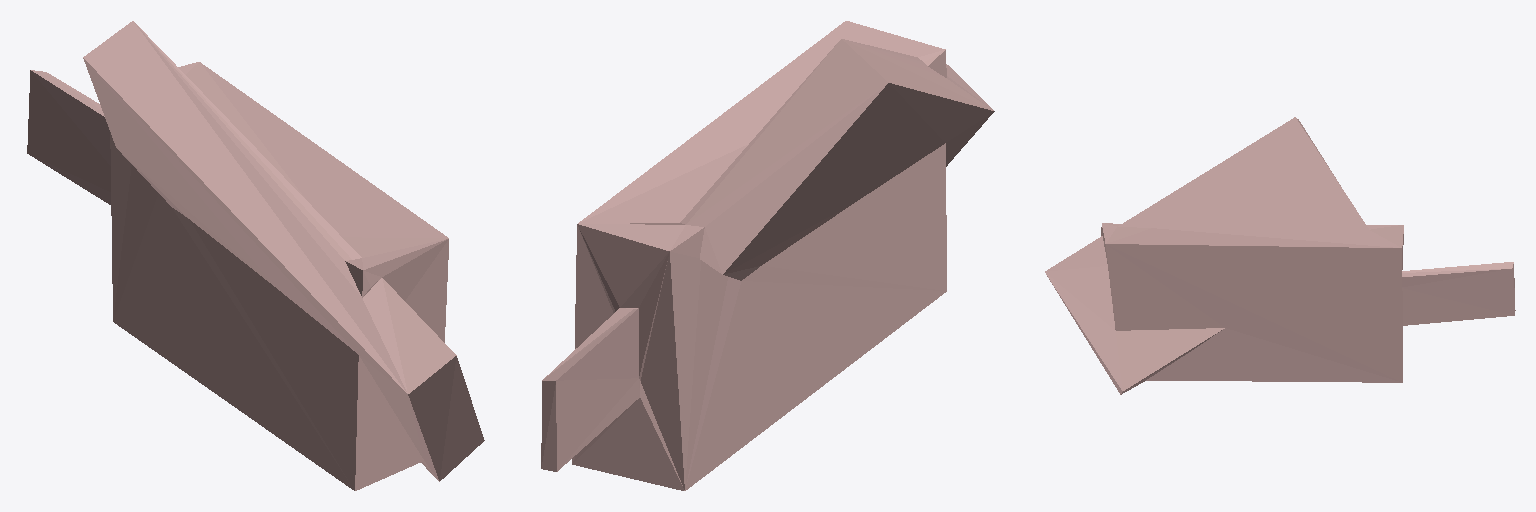
URDF robot description (blob801):

<robot name="blob801">
  <link name="random_obj_801">
    <contact>
      <lateral_friction value="1.0"/>
      <rolling_friction value="0.0"/>
      <inertia_scaling value="3.0"/>
      <contact_cfm value="0.0"/>
      <contact_erp value="1.0"/>
    </contact>
    <inertial>
      <origin rpy="0 0 0" xyz="0 0 0"/>
      <mass value="0.1261"/>
      <inertia ixx="1" ixy="0" ixz="0" iyy="1" iyz="0" izz="0"/>
    </inertial>
    <visual>
      <origin rpy="0 0 0" xyz="0 0 0"/>
      <geometry>
        <mesh filename="801.obj" scale="0.0084 0.0084 0.0084"/>
      </geometry>
      <material name="blockmat">
        <color rgba="0.84 0.71 0.70 1"/>
      </material>
    </visual>
    <collision>
      <origin rpy="0 0 0" xyz="0 0 0"/>
      <geometry>
        <mesh filename="801_coll.obj" scale="0.0084 0.0084 0.0084"/>
      </geometry>
    </collision>
  </link>
</robot>

--- What the picture shows (computed from the rendered views, not written in the file) ---
Views: 3 orthographic renders of the robot side by side, from view 1: azimuth 30°, elevation 25°; view 2: azimuth 150°, elevation 25°; view 3: azimuth 270°, elevation 25°.
Model blob801 with 1 links and 0 joints (none), rooted at random_obj_801, posed every joint at zero.
Links seen in each view (by area): view 1: random_obj_801; view 2: random_obj_801; view 3: random_obj_801.
Link boxes in pixels (x1=…): random_obj_801: x1=27, y1=21, x2=484, y2=490; random_obj_801: x1=541, y1=21, x2=994, y2=490; random_obj_801: x1=1045, y1=117, x2=1515, y2=394.
Size in the robot's own frame: 0.059 by 0.1606 by 0.0874 metres.
1 mesh visuals loaded from 1 distinct referenced files (1 OBJ).
